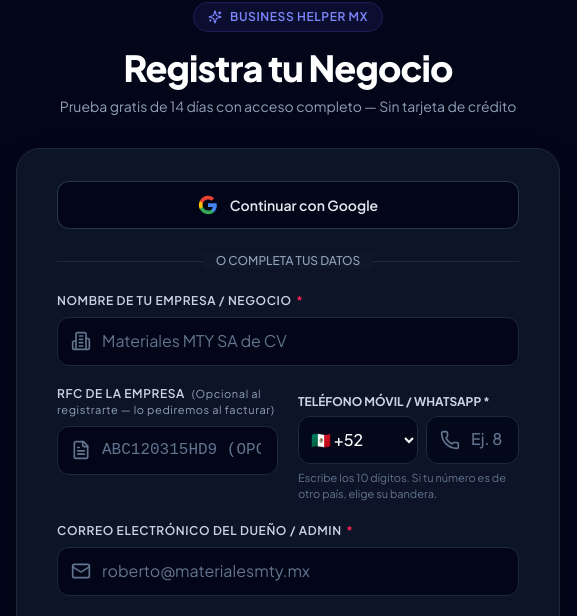
Test case: RegisterPage Component (Task C1 Progressive Profiling Suite) › validates RFC if user chooses to provide one
Type "INVALID_RFC" into the field with placeholder "ABC120315HD9 (Opcional)".
click(168, 450); type("INVALID_RFC")  # box [57, 426, 278, 475]
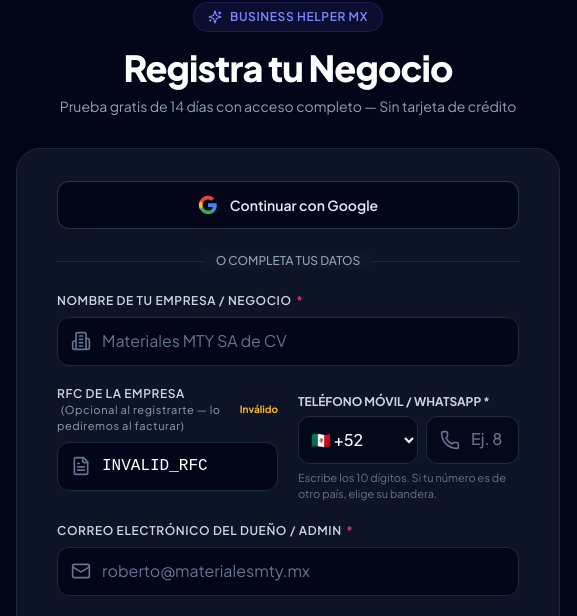
Type "Mi Empresa Demo" into the field with placeholder "Materiales MTY SA de CV".
click(288, 341); type("Mi Empresa Demo")  # box [57, 317, 519, 366]
Type "8112345678" into the field with id "register-phone".
click(472, 440); type("8112345678")  # box [426, 416, 519, 464]
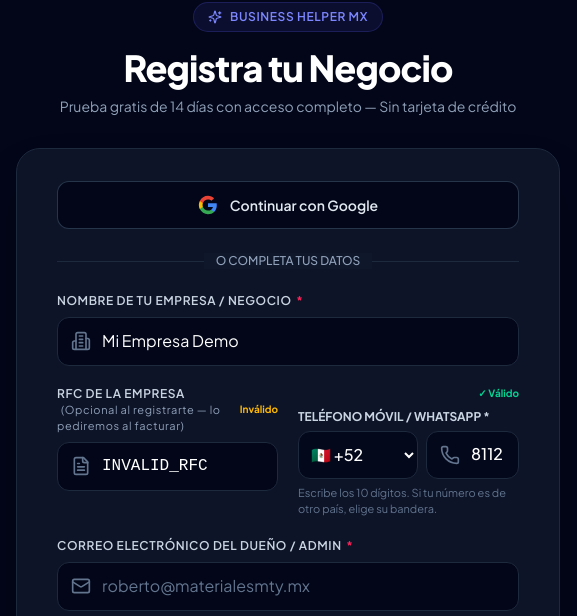
Type "demo@empresa.mx" into the field with placeholder "roberto@materialesmty.mx".
click(288, 586); type("demo@empresa.mx")  # box [57, 562, 519, 611]
(page scrolled)
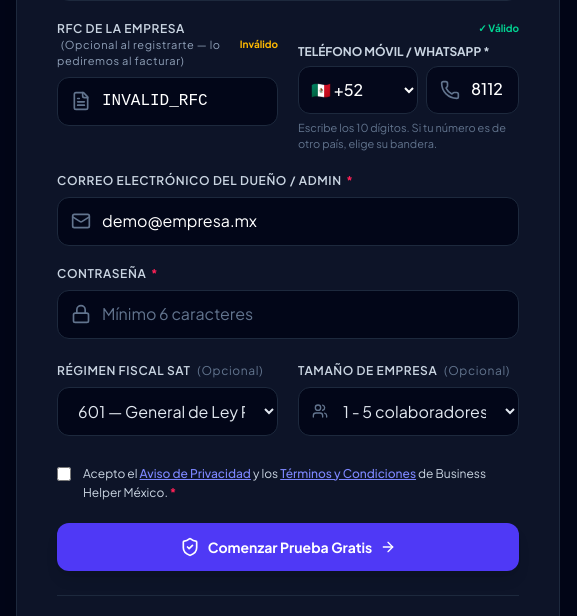
Type "Password123!" into the password field with placeholder "Mínimo 6 caracteres".
click(288, 314); type("Password123!")  # box [57, 290, 519, 338]
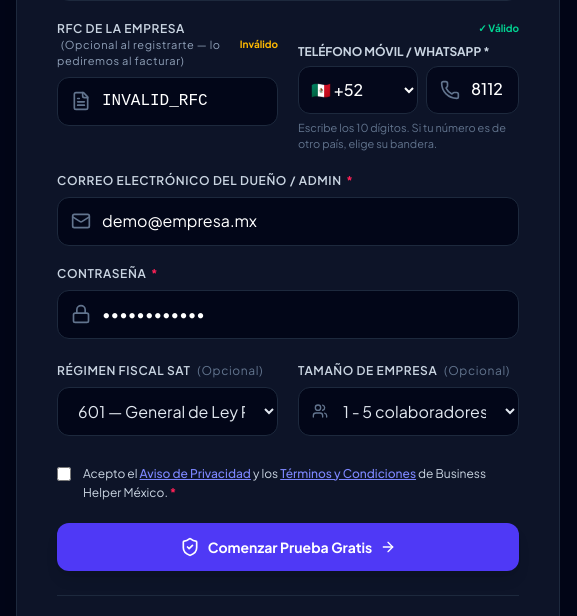
Click the checkbox.
click(64, 474)  # box [57, 466, 71, 482]
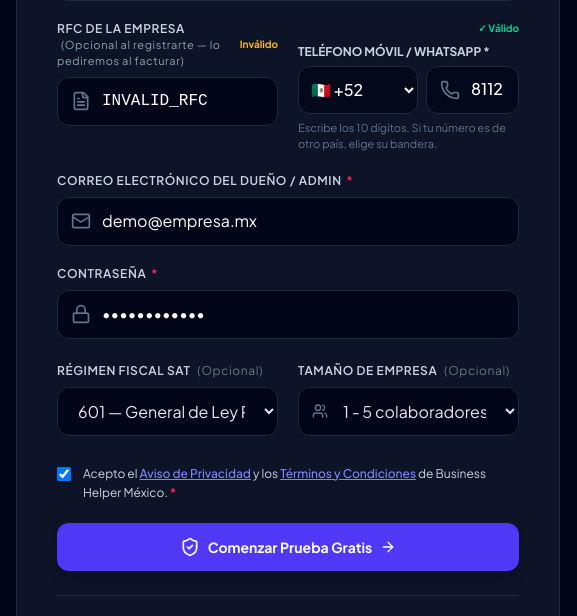
Click the button "Comenzar Prueba Gratis".
click(288, 546)  # box [57, 522, 519, 570]
(page scrolled)
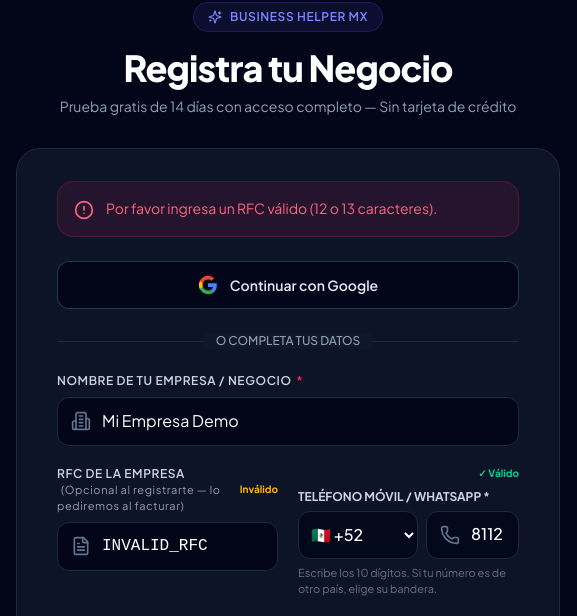
Result: the text "Por favor ingresa un RFC válido (12 o 13 caracteres)." is shown at [106, 198, 437, 218]
